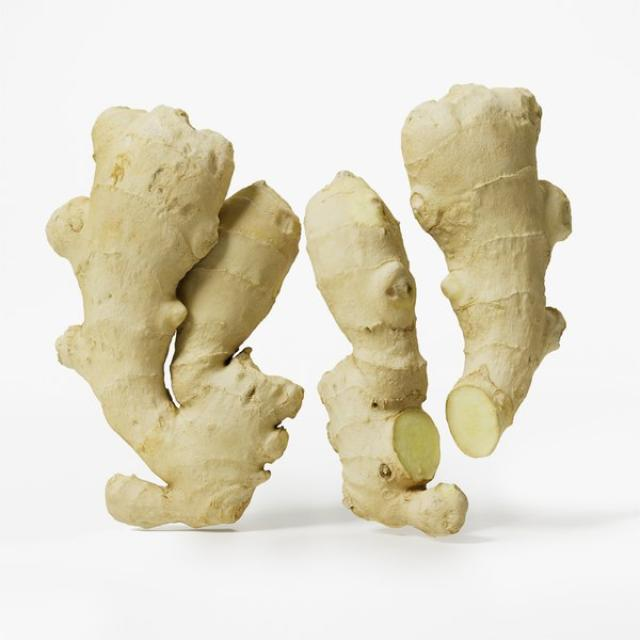ginger-root: (36, 87, 322, 581)
